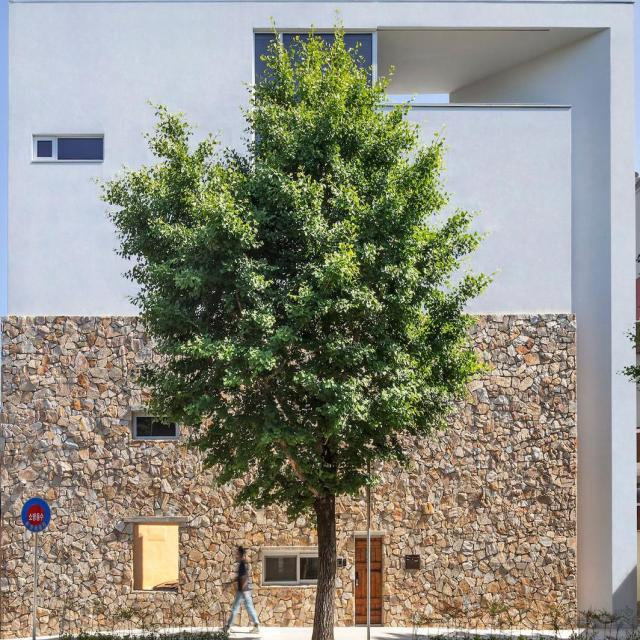door: (353, 536, 384, 627)
plant: (103, 22, 502, 639)
windows: (130, 522, 182, 591), (262, 552, 318, 584), (32, 136, 104, 160)
